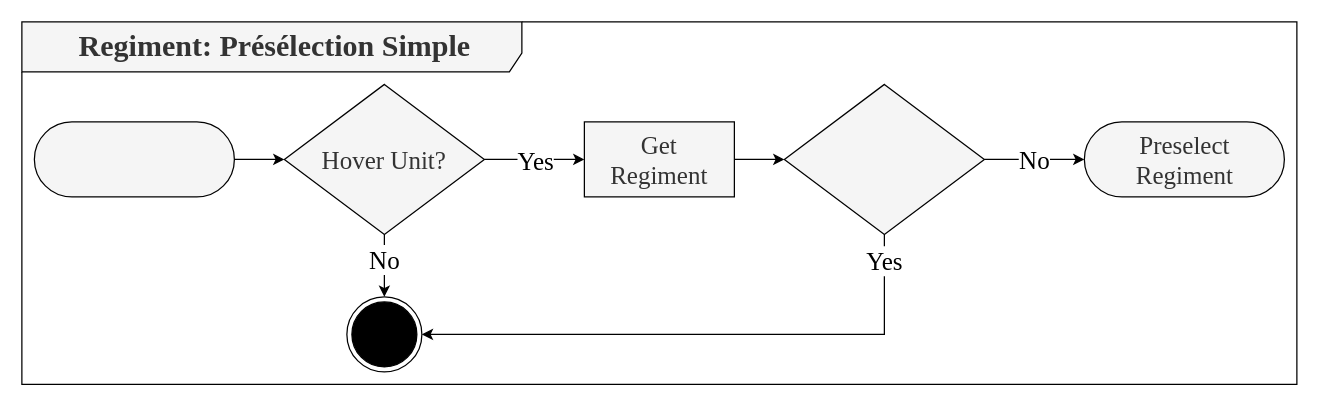
This 1319x406 diagram has some shape labels left out. Each missing label, with the centre of its shape:
"Mouse Move" goes at pixel 133 159.
"Regiment Preselected?" goes at pixel 883 158.
